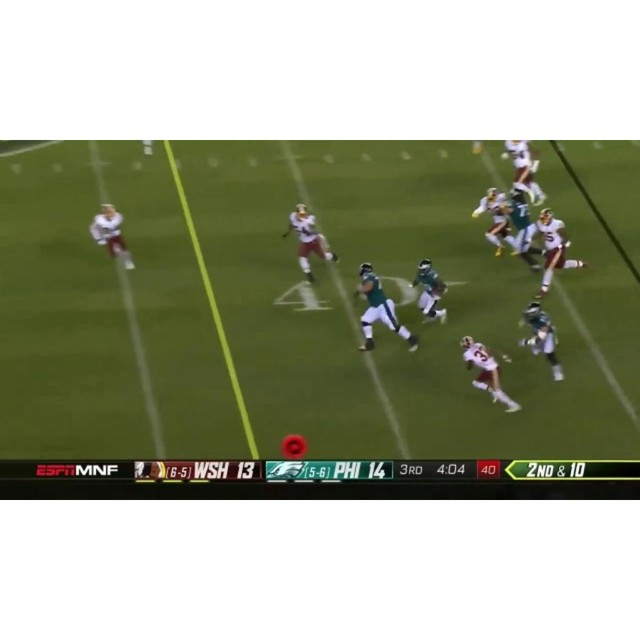american-football-player: (354, 262, 418, 353), (532, 208, 586, 294), (460, 336, 521, 412), (282, 203, 338, 284), (518, 302, 566, 382), (471, 187, 517, 258), (89, 203, 135, 270), (407, 258, 451, 325), (505, 186, 541, 264), (501, 140, 546, 202)
